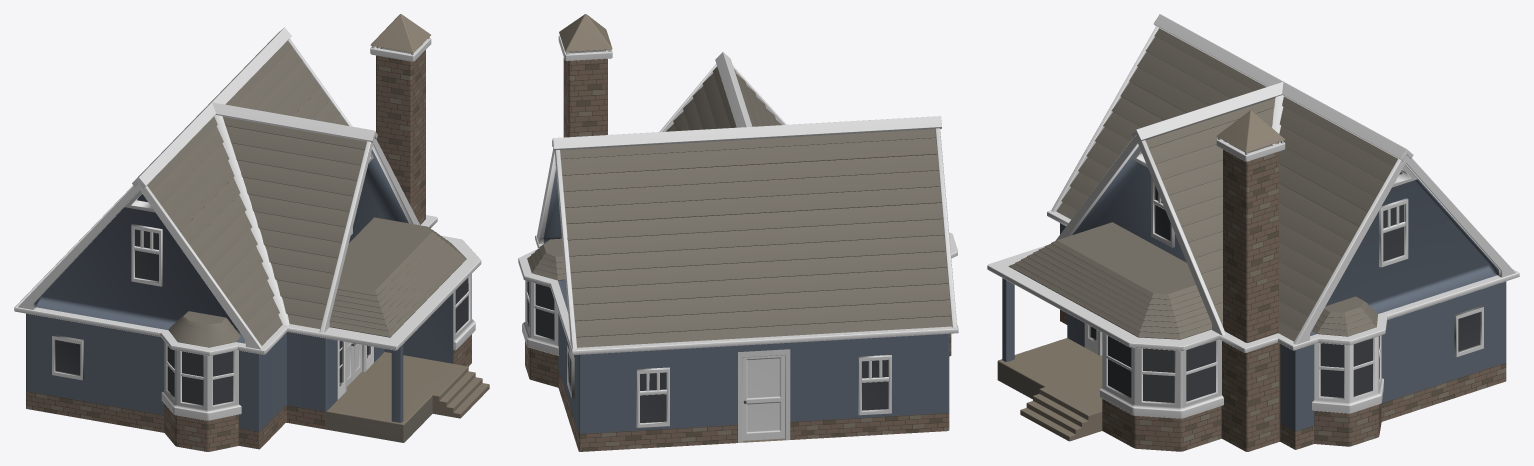
Rendered from house.fbx.
3 renders of one model, left to right at view 1: azimuth 30°, elevation 25°; view 2: azimuth 150°, elevation 25°; view 3: azimuth 270°, elevation 25°, orthographic. The views are drawn at different scales.
Parts seen in each view (by area): view 1: node_id35; view 2: node_id35; view 3: node_id35.
Boxes of the visible parts, x1,y1,x2,y2 form: node_id35: [14, 14, 489, 451]; node_id35: [518, 14, 958, 451]; node_id35: [987, 14, 1519, 451].
Bounding box in the file's own units: 0.564 × 0.4107 × 0.6011.
Materials: 1 (1 with a texture image).
